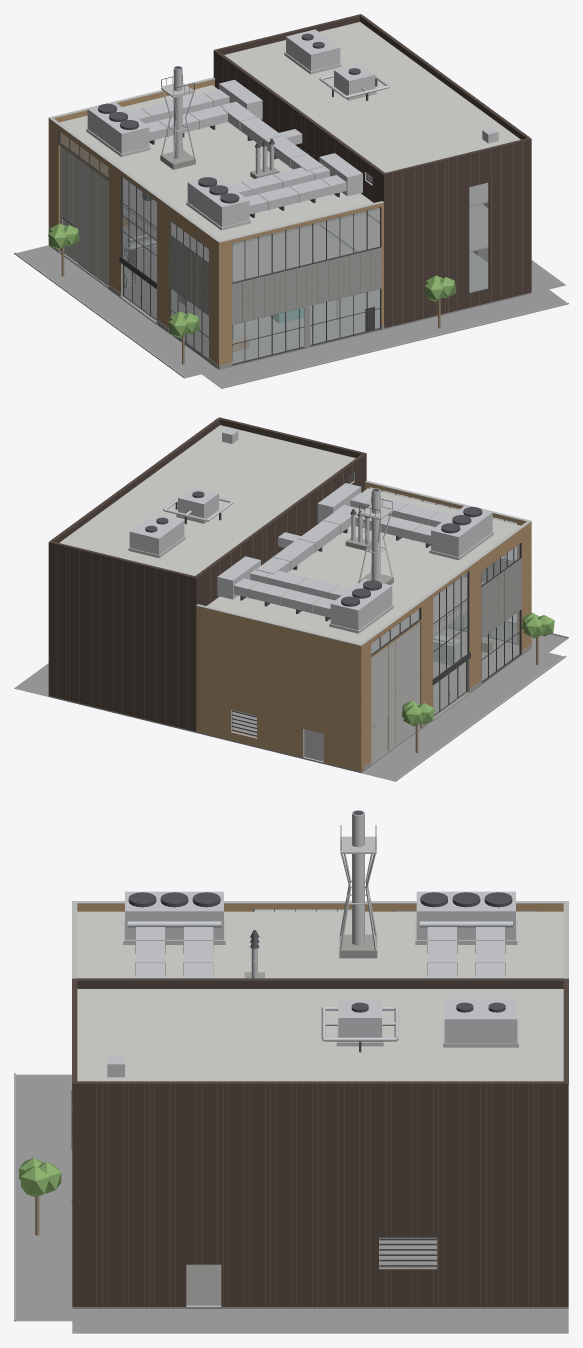
File: clay-energy-centre-clay-v009.glb
The picture shows the model from 3 angles, top to bottom: view 1: azimuth 30°, elevation 25°; view 2: azimuth 150°, elevation 25°; view 3: azimuth 270°, elevation 25°; orthographic projection. The views are drawn at different scales.
Visible parts, largest first — view 1: CLAY_MEMBRANE, CLAY_CORTEN, CLAY_FOUNDATION, CLAY_STEEL, CLAY_GLASS, CLAY_WALL, CLAY_CONCRETE, CLAY_FLOOR, CLAY_TRIM, CLAY_JOINT, CLAY_PRECAST, CLAY_PALE (+4 smaller); view 2: CLAY_CORTEN, CLAY_MEMBRANE, CLAY_WALL, CLAY_STEEL, CLAY_FOUNDATION, CLAY_JOINT, CLAY_GLASS, CLAY_PALE, CLAY_PRECAST, CLAY_CONCRETE, CLAY_TRIM, CLAY_HARDWARE (+3 smaller); view 3: CLAY_CORTEN, CLAY_MEMBRANE, CLAY_FOUNDATION, CLAY_STEEL, CLAY_JOINT, CLAY_PALE, CLAY_HARDWARE, CLAY_WALL, CLAY_PLANTING, CLAY_CONCRETE.
Boxes of the visible parts, box(x1,y1,x2,y2) form: CLAY_MEMBRANE: box(59, 22, 520, 240); CLAY_CORTEN: box(213, 14, 531, 328); CLAY_FOUNDATION: box(16, 225, 566, 388); CLAY_STEEL: box(87, 29, 498, 339); CLAY_GLASS: box(60, 132, 488, 363); CLAY_WALL: box(48, 79, 383, 368); CLAY_CONCRETE: box(50, 150, 384, 369); CLAY_FLOOR: box(107, 174, 488, 281); CLAY_TRIM: box(58, 131, 489, 365); CLAY_JOINT: box(50, 58, 522, 363); CLAY_PRECAST: box(60, 146, 108, 286); CLAY_PALE: box(48, 52, 488, 288); CLAY_CORTEN: box(48, 417, 366, 731); CLAY_MEMBRANE: box(59, 425, 520, 643); CLAY_WALL: box(196, 482, 531, 771); CLAY_STEEL: box(129, 428, 492, 665); CLAY_FOUNDATION: box(14, 614, 568, 781); CLAY_JOINT: box(57, 464, 529, 770); CLAY_GLASS: box(369, 487, 519, 714); CLAY_PALE: box(128, 472, 531, 762); CLAY_PRECAST: box(371, 623, 419, 762); CLAY_CONCRETE: box(345, 537, 530, 771); CLAY_TRIM: box(368, 486, 521, 727); CLAY_HARDWARE: box(145, 473, 482, 736); CLAY_CORTEN: box(72, 978, 568, 1306); CLAY_MEMBRANE: box(77, 911, 563, 1081); CLAY_FOUNDATION: box(15, 1074, 568, 1333); CLAY_STEEL: box(107, 810, 517, 1077); CLAY_JOINT: box(72, 1084, 554, 1306); CLAY_PALE: box(72, 836, 568, 1306); CLAY_HARDWARE: box(128, 810, 512, 1266); CLAY_WALL: box(77, 904, 563, 911); CLAY_PLANTING: box(19, 1158, 61, 1197); CLAY_CONCRETE: box(71, 934, 377, 1203).
Size of the model in its own units: 44.1 by 23.81 by 38.03.
